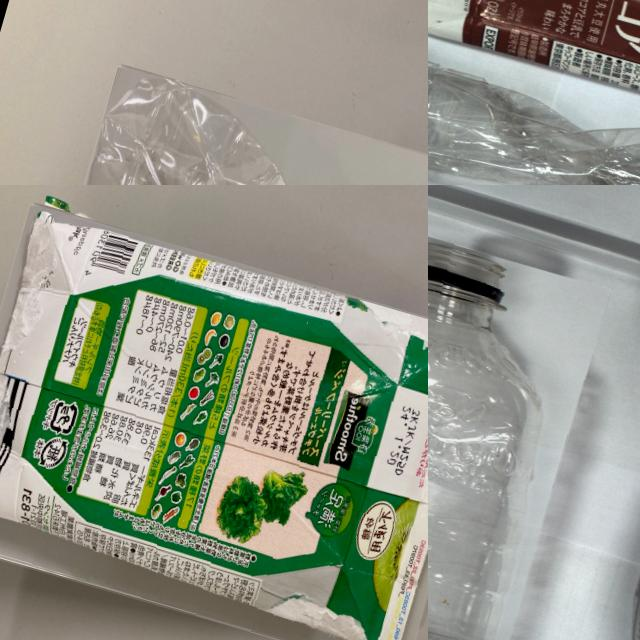Aluminium Foil: (0, 201, 428, 640), (428, 0, 640, 176)
Transparent Plastic Bottle: (428, 212, 611, 640), (46, 63, 428, 185), (428, 43, 640, 185)
